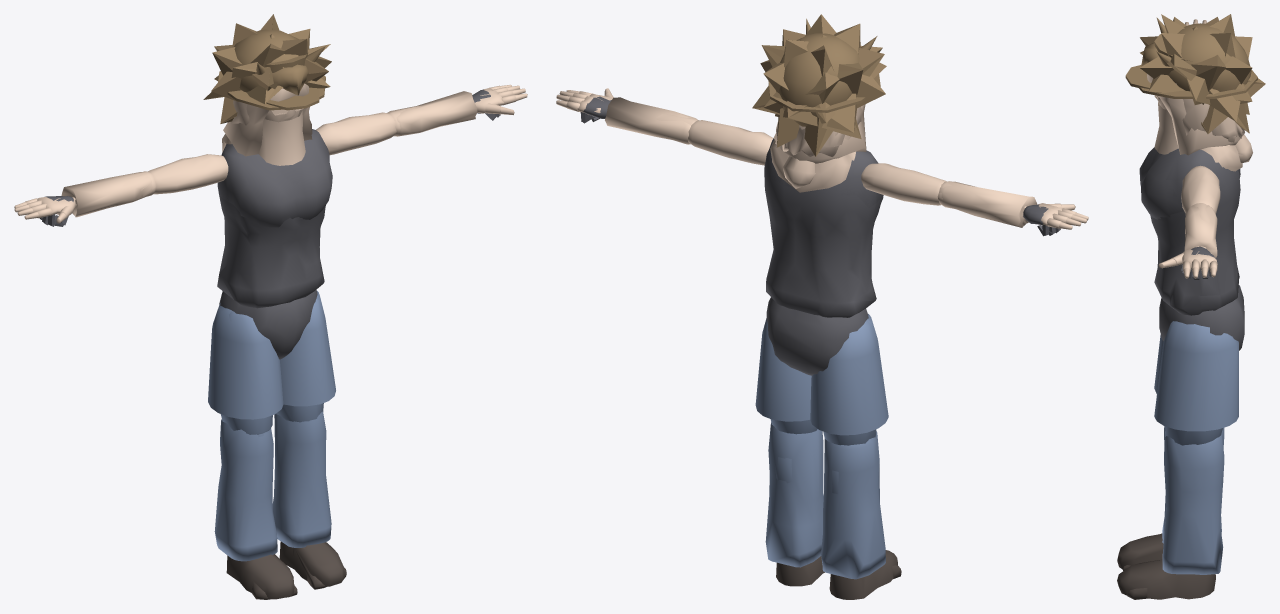
Rendered from MDICKIE_tinted.glb.
The picture shows the model from 3 angles, left to right: view 1: azimuth 30°, elevation 25°; view 2: azimuth 150°, elevation 25°; view 3: azimuth 270°, elevation 25°; orthographic projection. The views are drawn at different scales.
Parts seen in each view (by area): view 1: MDICKIE; view 2: MDICKIE; view 3: MDICKIE.
Part boxes in pixels (x1,y1,x2,y2): MDICKIE: [14, 14, 527, 599]; MDICKIE: [556, 14, 1088, 599]; MDICKIE: [1117, 14, 1265, 599].
Bounding box in the file's own units: 658 × 666 × 162.
